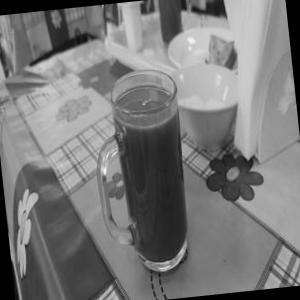coffee: (86, 59, 214, 268)
